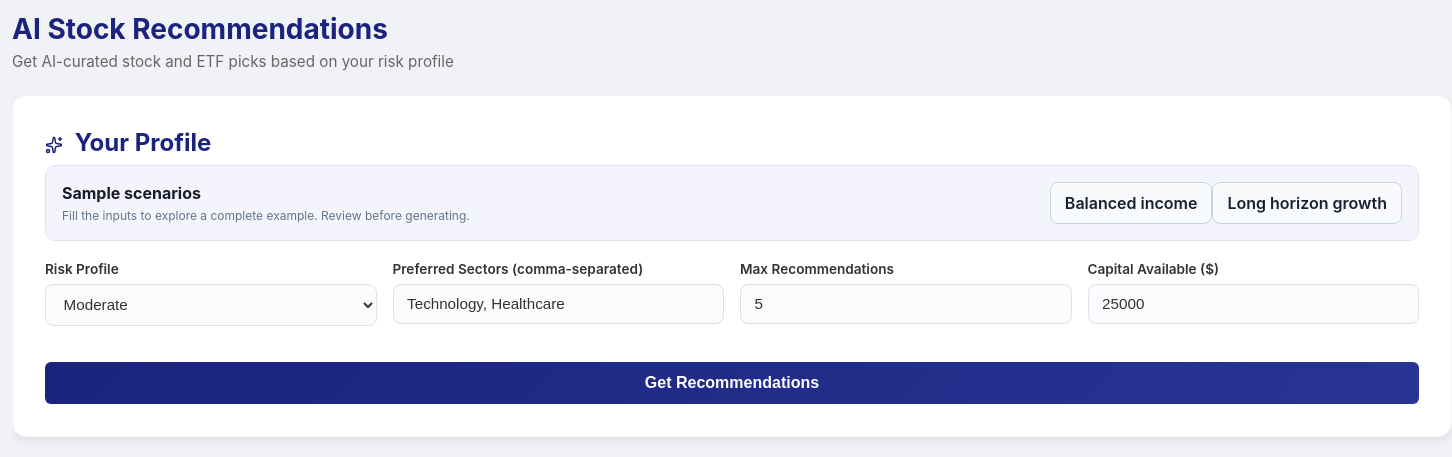
Test: each stock scenario fills every editable field without generating
Click the button "Balanced income" at coordinates (1131, 203), box [1050, 182, 1212, 224]
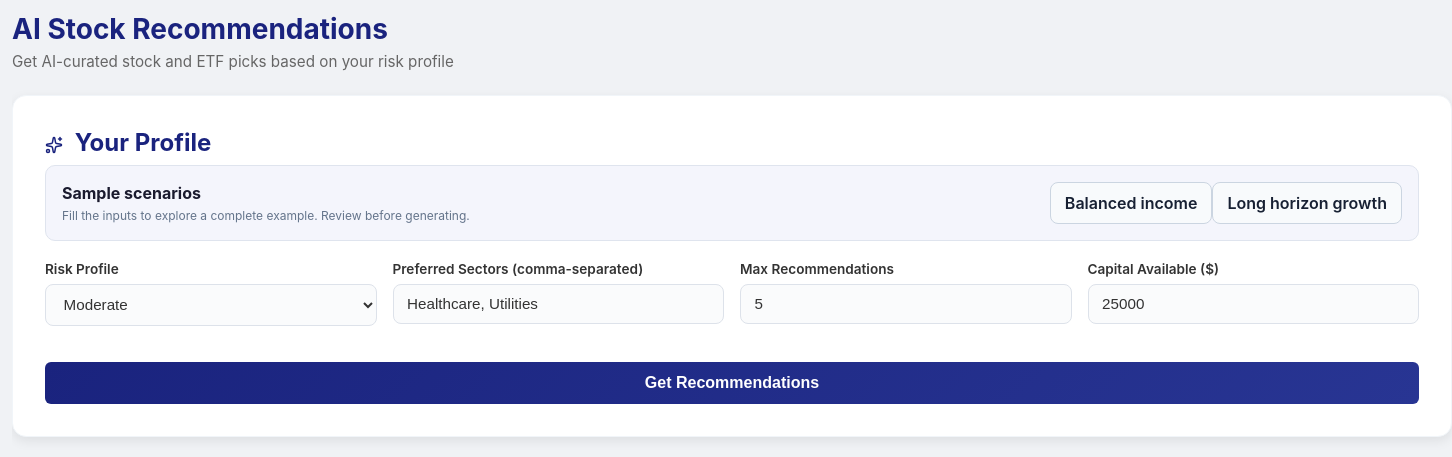
Expected: the dropdown shows "Moderate", [45, 284, 376, 326]
Now the field showing "Healthcare, Utilities" is shown, box [392, 284, 724, 324]
Click the button "Long horizon growth" at coordinates (1307, 203), box [1212, 182, 1402, 224]
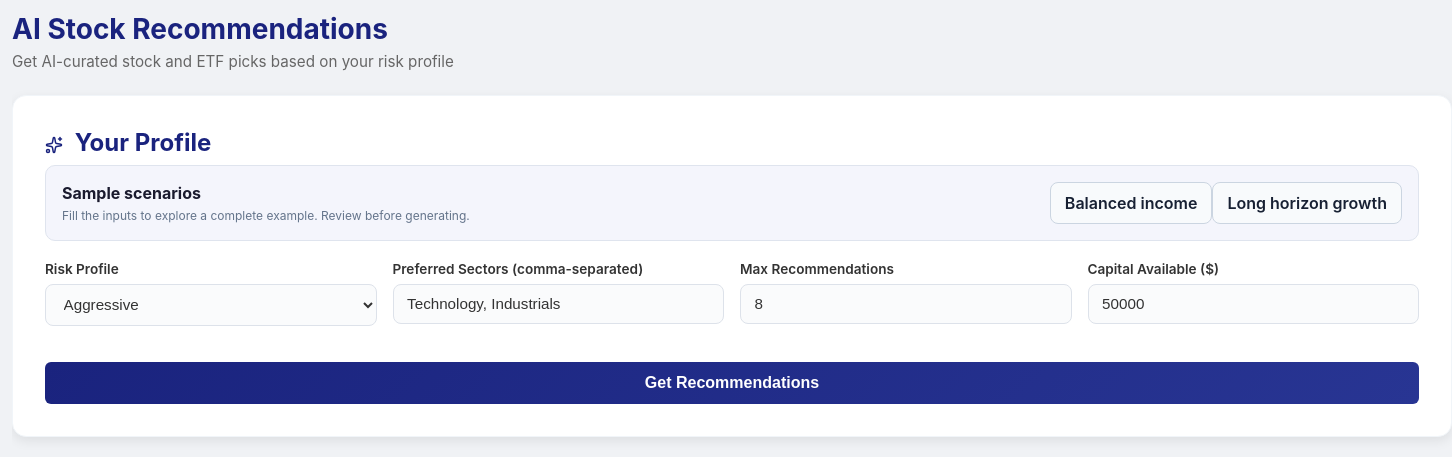
Now the dropdown shows "Aggressive", box [45, 284, 376, 326]
Now the field showing "Technology, Industrials" is shown, box [392, 284, 724, 324]
Now the number field showing "8" below "Max Recommendations" is shown, box [740, 284, 1072, 324]
